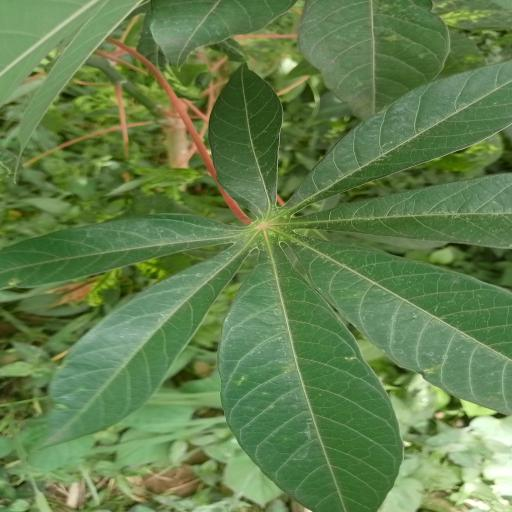Cassava_Healthy: (7, 59, 512, 512)
